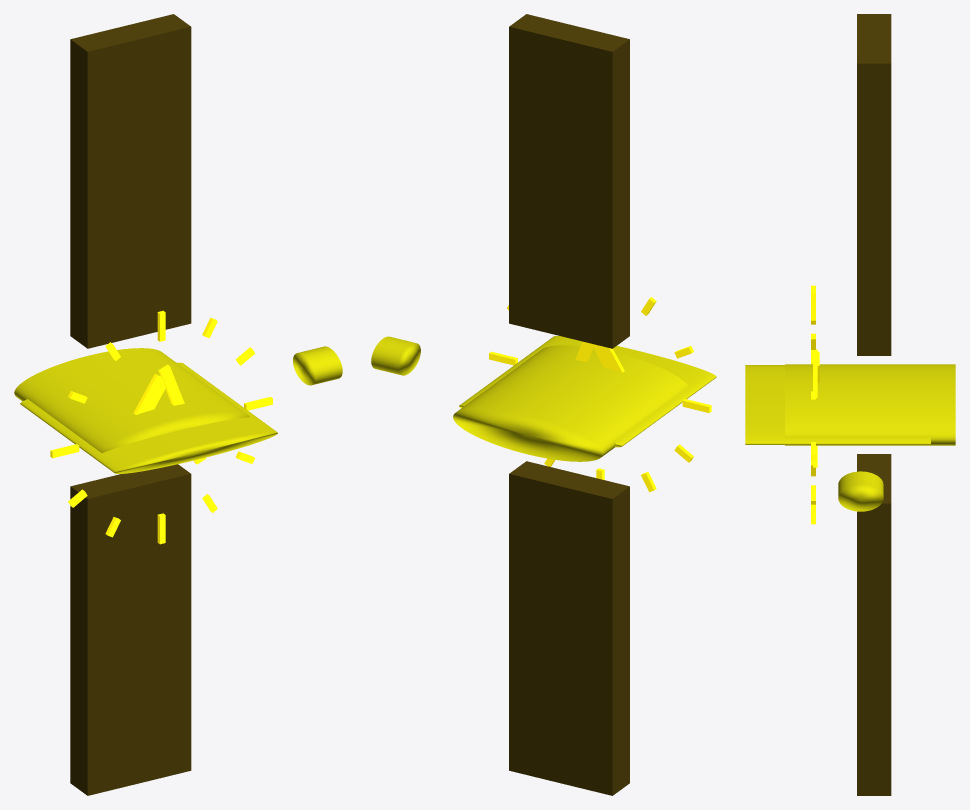
The model's file is watch.gltf.
3 views of the same model, side by side, from view 1: azimuth 30°, elevation 25°; view 2: azimuth 150°, elevation 25°; view 3: azimuth 270°, elevation 25° (orthographic).
Visible parts, largest first — view 1: upper-strap, lower-strap, case, bezel, crown, hour-hand; view 2: upper-strap, lower-strap, case, bezel, crown; view 3: case, upper-strap, lower-strap, bezel, crown.
Part boxes in pixels (x1,y1,x2,y2): upper-strap: (70,14,191,348); lower-strap: (70,464,191,795); case: (14,348,249,452); bezel: (20,362,277,473); crown: (293,346,342,385); hour-hand: (133,374,165,414); upper-strap: (509,14,629,348); lower-strap: (509,461,629,795); case: (453,345,688,461); bezel: (459,336,716,447); crown: (371,336,420,375); case: (785,364,955,445); upper-strap: (857,14,891,355); lower-strap: (857,454,891,795); bezel: (745,365,930,444); crown: (838,471,883,511).
Size of the model in its own units: 1.82 by 4.26 by 1.11.
5 materials, 5 textured.
